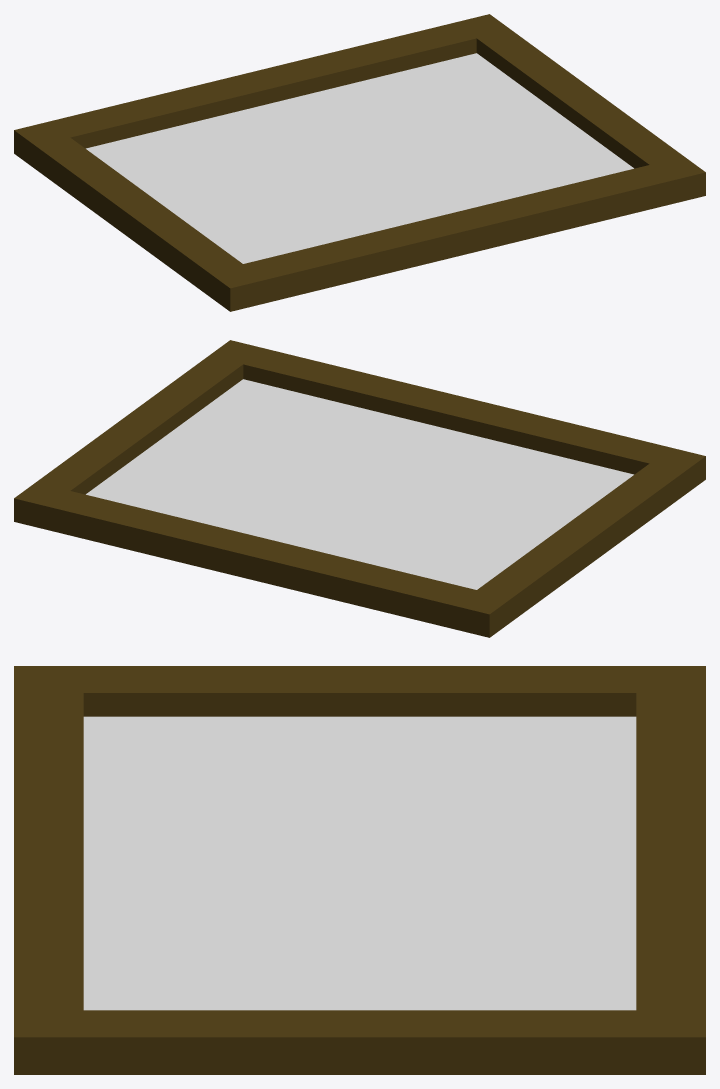
File: SM_Tableau.fbx
3 renders of one model, top to bottom at view 1: azimuth 30°, elevation 25°; view 2: azimuth 150°, elevation 25°; view 3: azimuth 270°, elevation 25°, orthographic. The views are drawn at different scales.
Parts seen in each view (by area): view 1: Tableau; view 2: Tableau; view 3: Tableau.
Part boxes in pixels (x1,y1,x2,y2): Tableau: (14, 14, 705, 311); Tableau: (14, 340, 705, 637); Tableau: (14, 666, 705, 1074).
Size of the model in its own units: 858 by 40.46 by 675.
